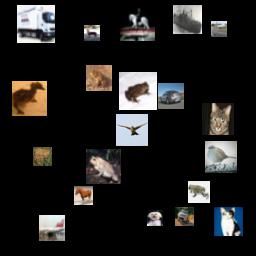airplane: (39, 215, 65, 241), (211, 21, 227, 37)
automobile: (158, 83, 184, 109), (175, 207, 194, 226)
bird: (12, 81, 47, 116), (205, 141, 237, 173), (116, 114, 148, 146)
cat: (202, 103, 234, 135), (214, 207, 243, 236)
deer: (84, 25, 100, 41)
dog: (147, 210, 163, 226)
frog: (119, 72, 157, 110), (86, 149, 121, 184), (86, 65, 112, 91), (188, 181, 210, 203), (33, 147, 52, 166)
ship: (173, 5, 202, 34)
truck: (17, 5, 55, 43)
